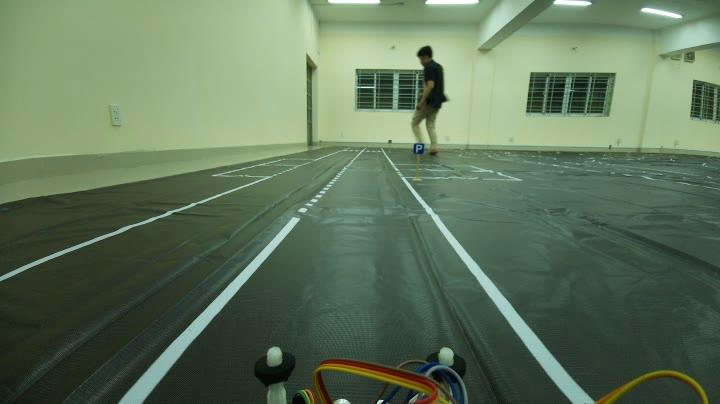parking: (410, 140, 426, 159)
